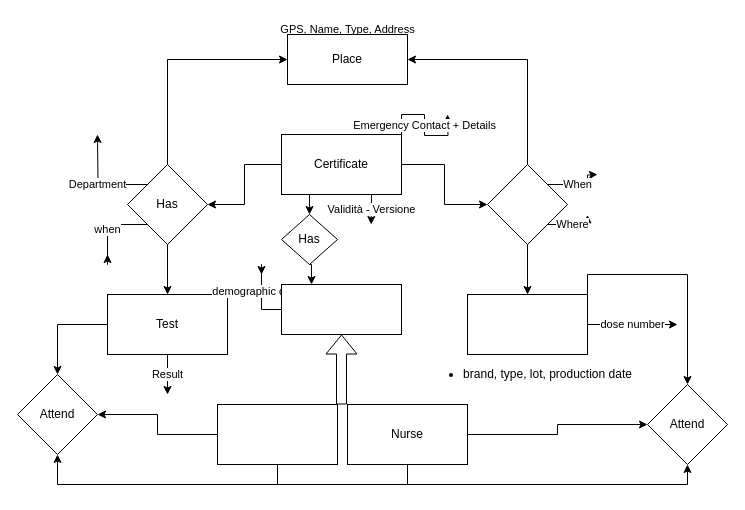
Image size: 745x510. Some labels were removed from this diagram. Here are the shapes that lost their labels. From the top down, the centre of each, then its label:
At (x=527, y=204): "Took".
At (x=341, y=309): "Person".
At (x=527, y=324): "Vaccines".
At (x=277, y=434): "Doctor".
